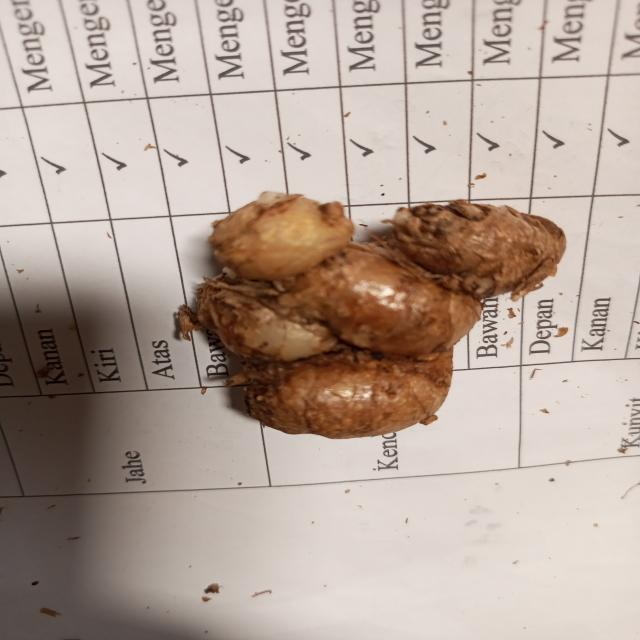ginger: (208, 188, 544, 430)
